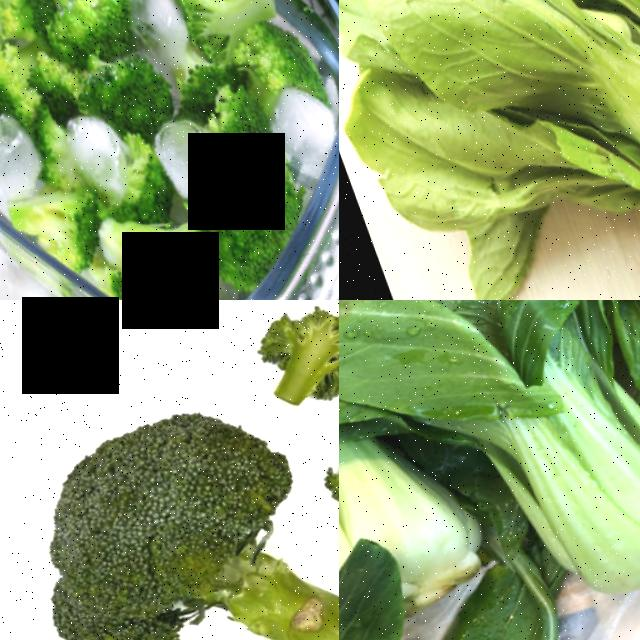bok choy: (339, 0, 640, 300), (407, 300, 640, 608)
broccoli: (0, 377, 307, 640), (200, 300, 339, 444), (70, 202, 225, 300), (182, 156, 303, 275), (55, 33, 182, 141), (142, 0, 283, 82), (0, 163, 99, 267), (285, 383, 339, 537), (20, 0, 115, 50)
